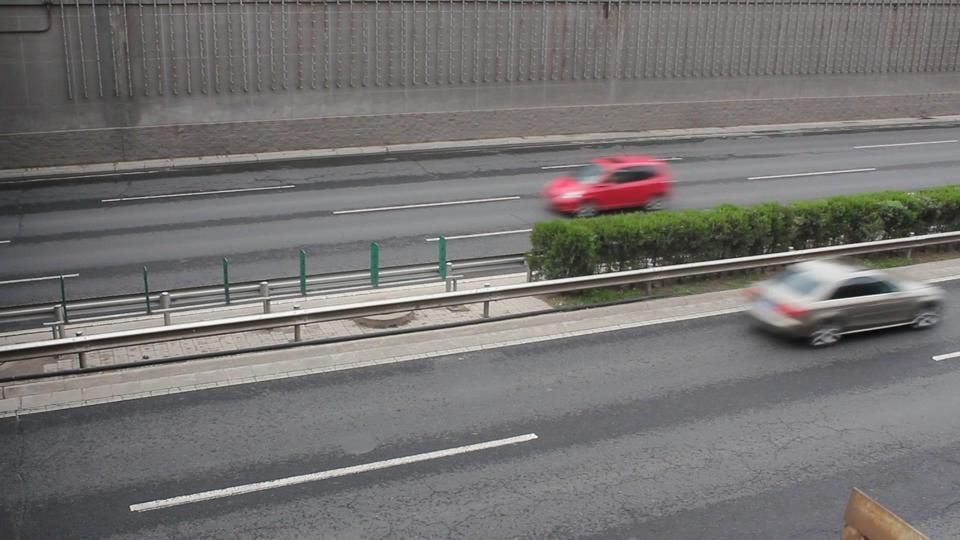car: (742, 260, 946, 346), (537, 154, 675, 218)
